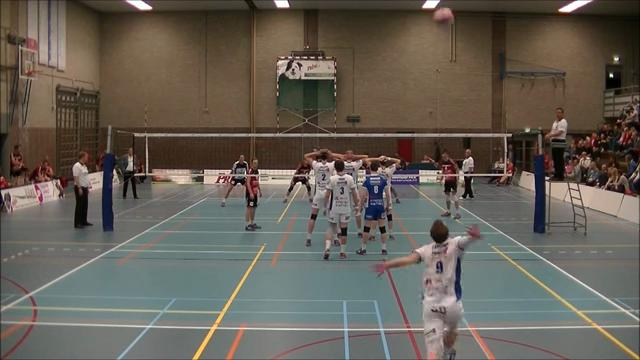battuta: (368, 215, 489, 359)
